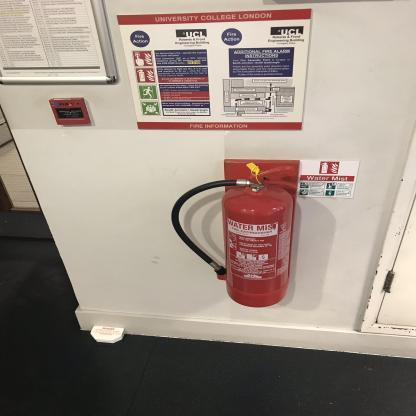Fire Extinguisher: (164, 152, 316, 316)
